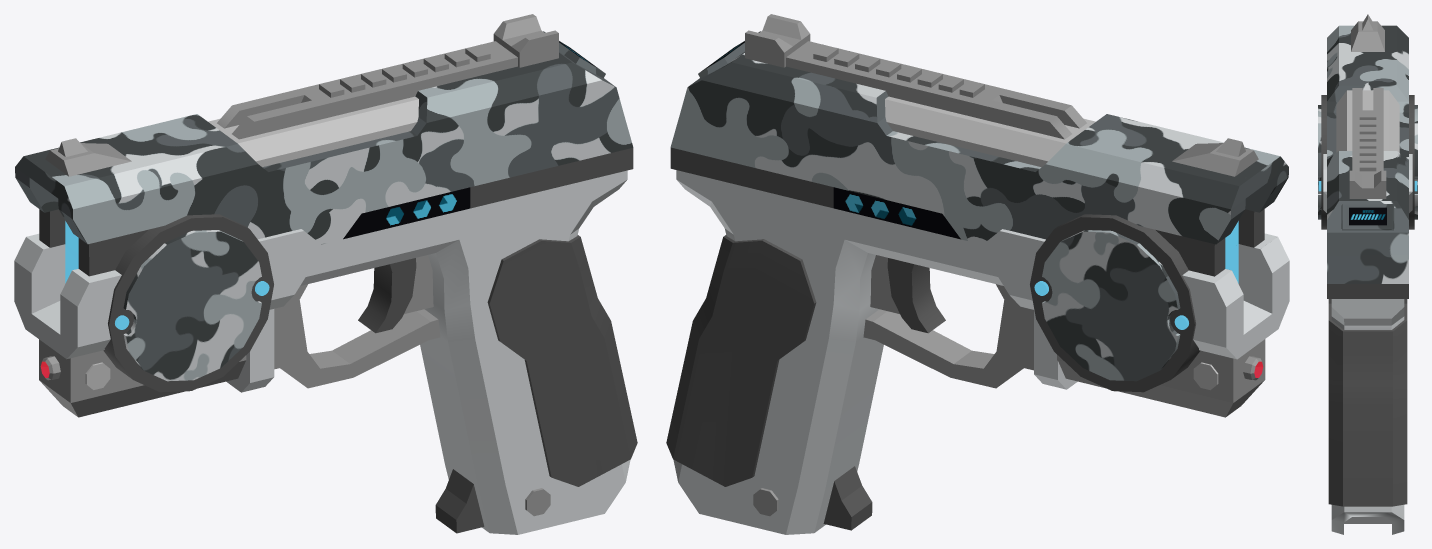
3 renders of one model, left to right at view 1: azimuth 30°, elevation 25°; view 2: azimuth 150°, elevation 25°; view 3: azimuth 270°, elevation 25°, orthographic. The views are drawn at different scales.
Visible parts, largest first — view 1: SM_P01A, SM_P01_Trigger; view 2: SM_P01A, SM_P01_Trigger; view 3: SM_P01A.
Part boxes in pixels (x1,y1,x2,y2): SM_P01A: (14,14,637,534); SM_P01_Trigger: (358,255,433,333); SM_P01A: (666,14,1289,534); SM_P01_Trigger: (870,255,945,333); SM_P01A: (1318,14,1417,534).
Bounding box in the file's own units: 20.27 × 16.26 × 4.31.
6 materials, 2 textured.
